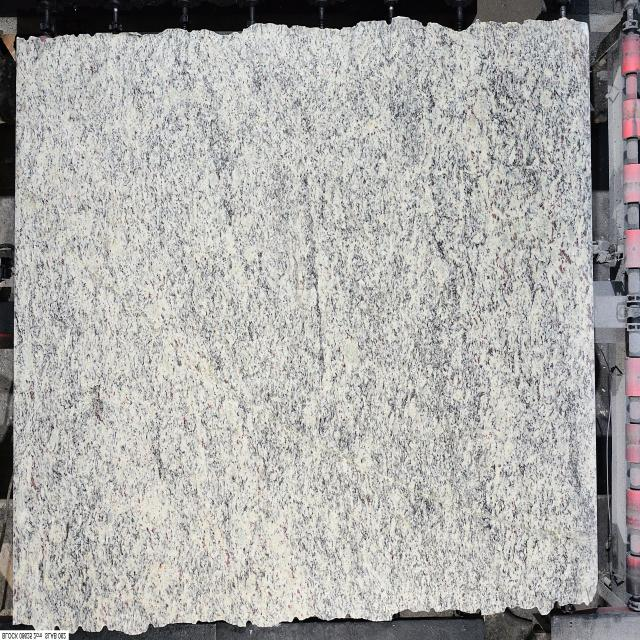chapa: (14, 16, 596, 634)
veio: (51, 618, 63, 636), (243, 616, 253, 632), (384, 12, 394, 28), (551, 600, 561, 614), (99, 623, 109, 635), (389, 610, 399, 622), (75, 624, 85, 634), (475, 606, 482, 620), (146, 620, 154, 632)
